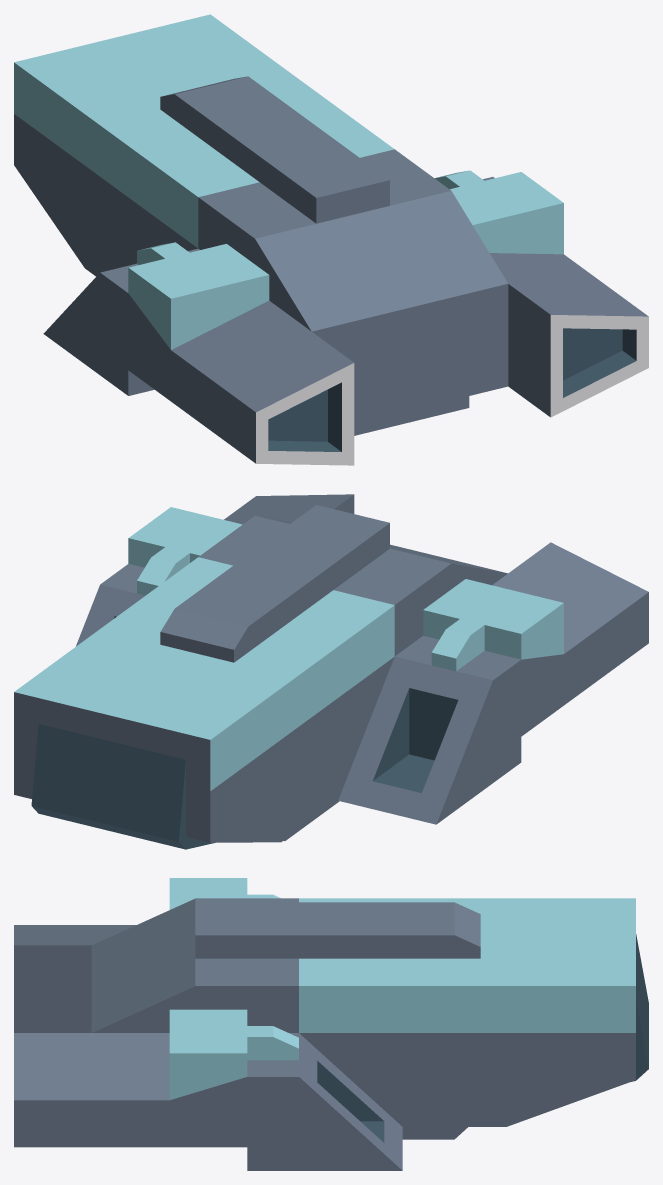
The model's file is navette-cargo.lod1.glb.
The picture shows the model from 3 angles, top to bottom: view 1: azimuth 30°, elevation 25°; view 2: azimuth 150°, elevation 25°; view 3: azimuth 270°, elevation 25°; orthographic projection. The views are drawn at different scales.
Visible parts, largest first — view 1: craft_cargoA; view 2: craft_cargoA; view 3: craft_cargoA.
Boxes of the visible parts, box(x1,y1,x2,y2) form: craft_cargoA: box(14, 14, 648, 465); craft_cargoA: box(14, 494, 648, 849); craft_cargoA: box(14, 878, 648, 1170).
Size of the model in its own units: 15.67 by 7.84 by 24.
Materials: 1 (1 with a texture image).
